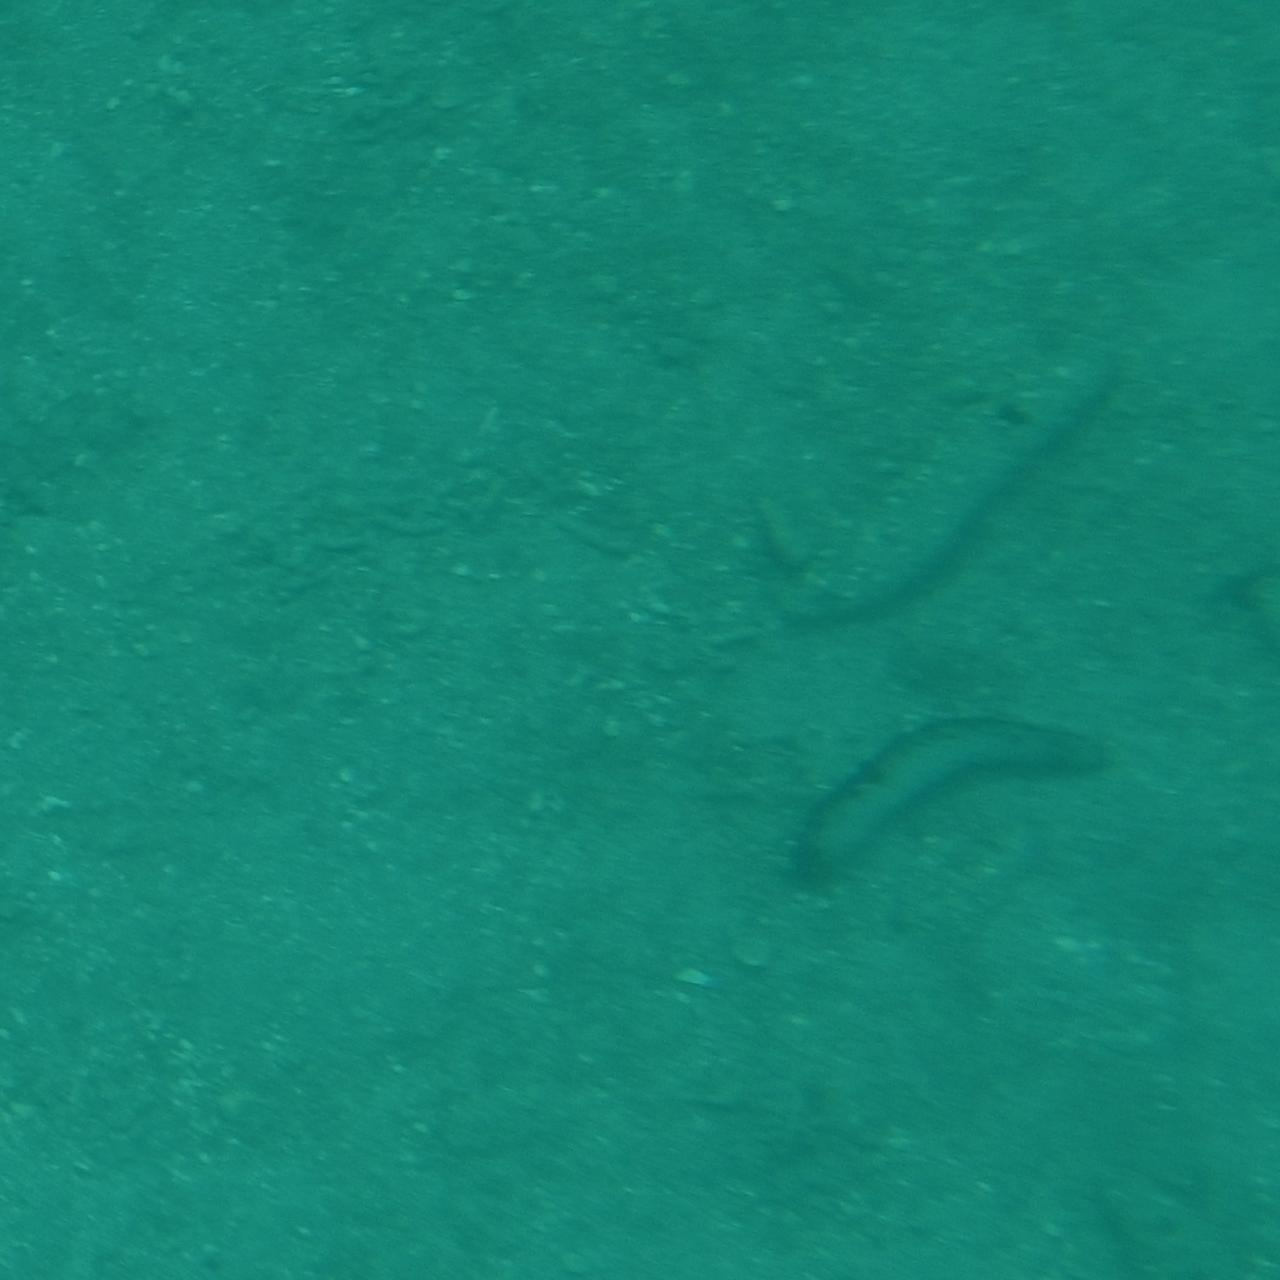Holothuria tubulosa: (762, 334, 1155, 645), (762, 701, 1144, 880)
